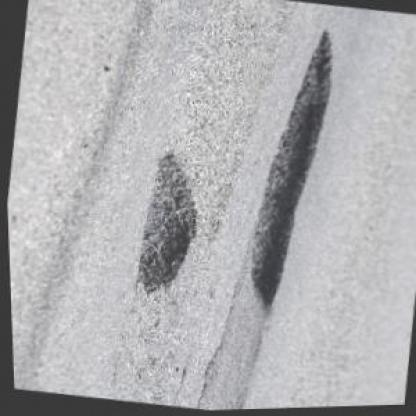pothole: (232, 22, 345, 320), (124, 147, 206, 302)
